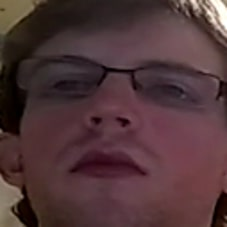drowsy: (33, 45, 222, 188)
